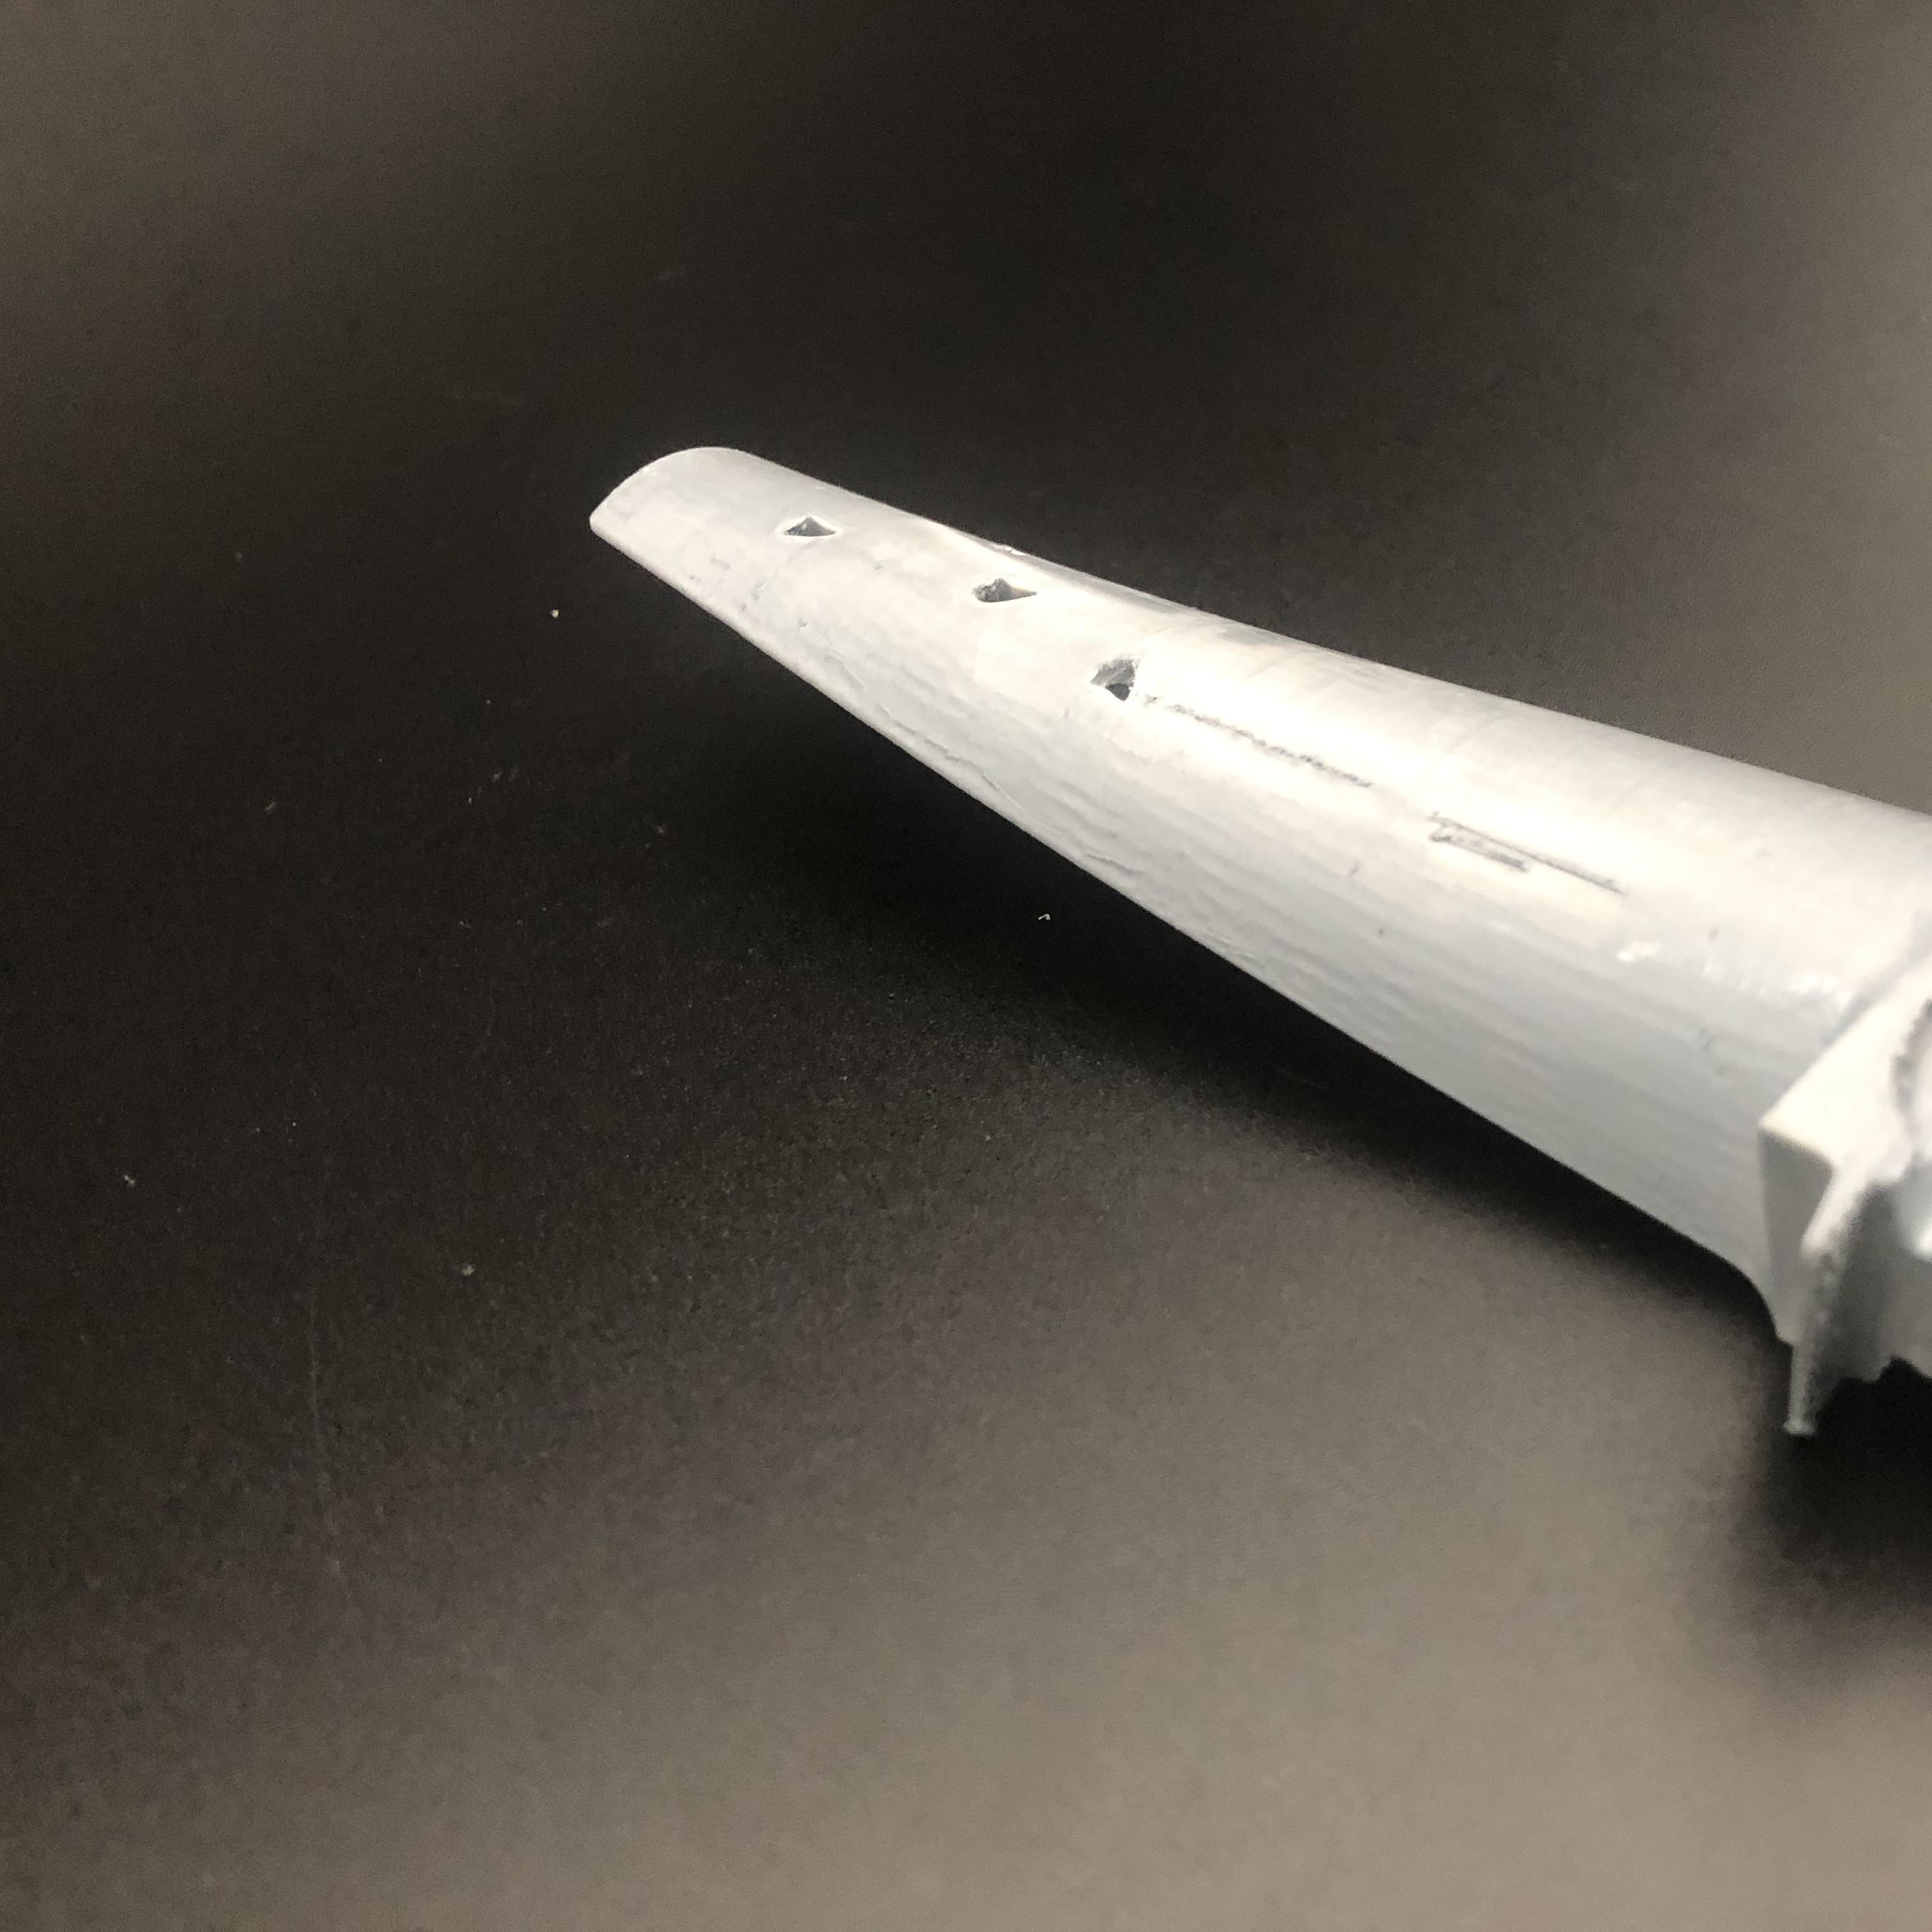breakdown: (782, 508, 1148, 711)
